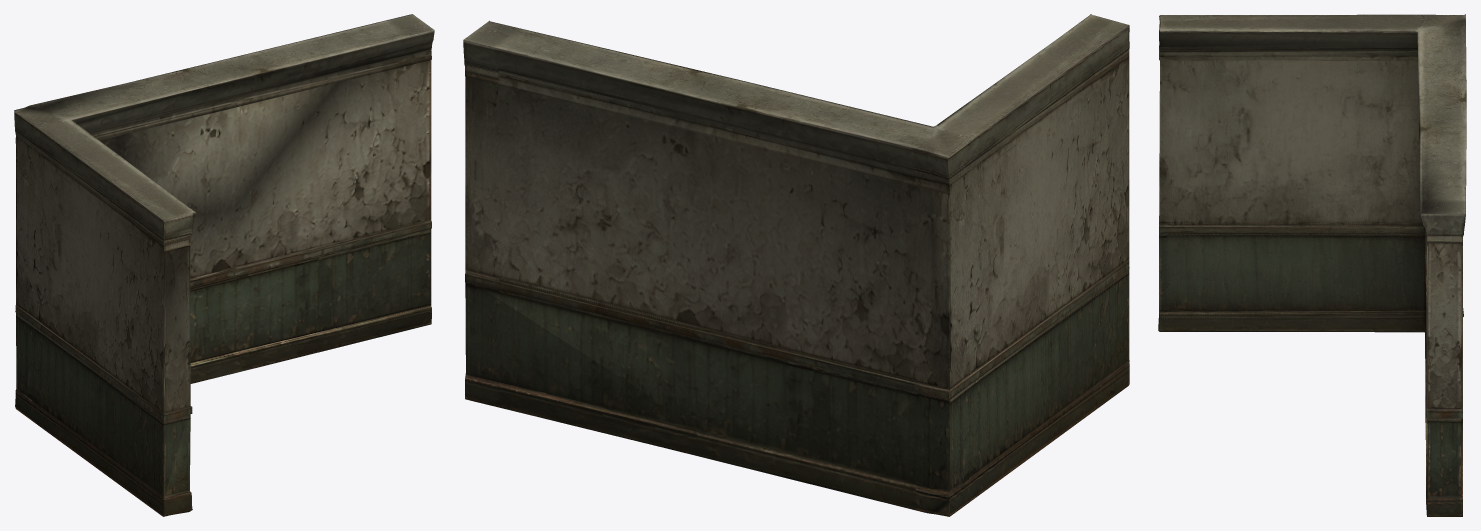
Rendered from wall3.fbx.
The picture shows the model from 3 angles, left to right: view 1: azimuth 30°, elevation 25°; view 2: azimuth 150°, elevation 25°; view 3: azimuth 270°, elevation 25°; orthographic projection. The views are drawn at different scales.
Visible parts, largest first — view 1: wall3; view 2: wall3; view 3: wall3.
Boxes of the visible parts, bbox=[...] form: wall3: bbox=[14, 14, 434, 516]; wall3: bbox=[463, 14, 1129, 516]; wall3: bbox=[1158, 14, 1466, 516].
Bounding box in the file's own units: 505 × 363 × 332.
Materials: 1 (1 with a texture image).
